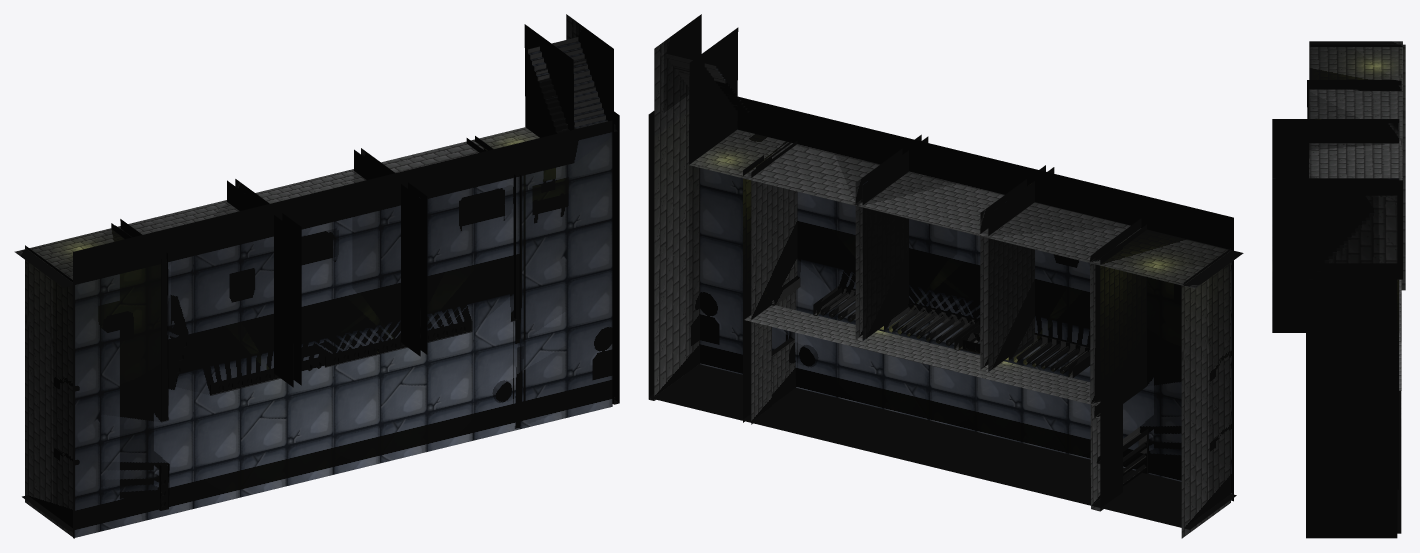
The model's file is level1.obj.
3 renders of one model, left to right at view 1: azimuth 30°, elevation 25°; view 2: azimuth 150°, elevation 25°; view 3: azimuth 270°, elevation 25°, orthographic. The views are drawn at different scales.
Parts seen in each view (by area): view 1: base; view 2: base; view 3: base.
Boxes of the visible parts, x1=… form: base: x1=14, y1=14, x2=619, y2=538; base: x1=648, y1=14, x2=1243, y2=538; base: x1=1272, y1=41, x2=1405, y2=538.
Bounding box in the file's own units: 851 × 529 × 186.
